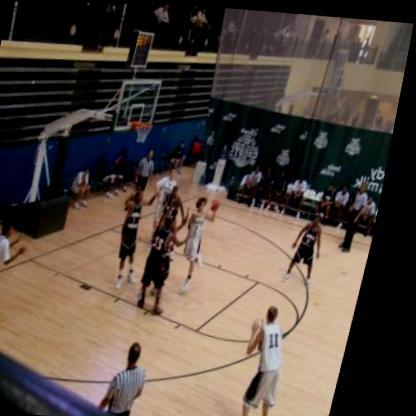basketball: (217, 196, 229, 210)
rim: (140, 120, 158, 129)
